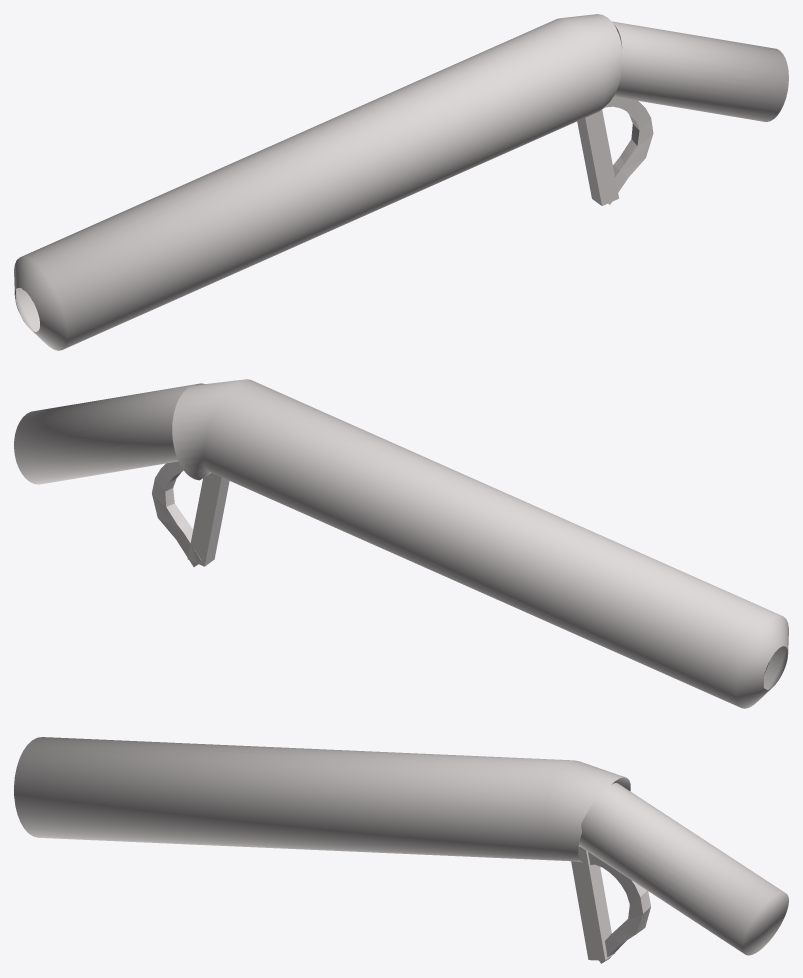
Rendered from welder_wo.fbx.
The picture shows the model from 3 angles, top to bottom: view 1: azimuth 30°, elevation 25°; view 2: azimuth 150°, elevation 25°; view 3: azimuth 330°, elevation 25°; orthographic projection.
Parts seen in each view (by area): view 1: Cube_5; view 2: Cube_5; view 3: Cube_5.
Part boxes in pixels (x1=…): Cube_5: x1=14, y1=14, x2=788, y2=350; Cube_5: x1=14, y1=379, x2=788, y2=708; Cube_5: x1=14, y1=737, x2=788, y2=963.
Bounding box in the file's own units: 5.79 × 1.45 × 0.7463.
